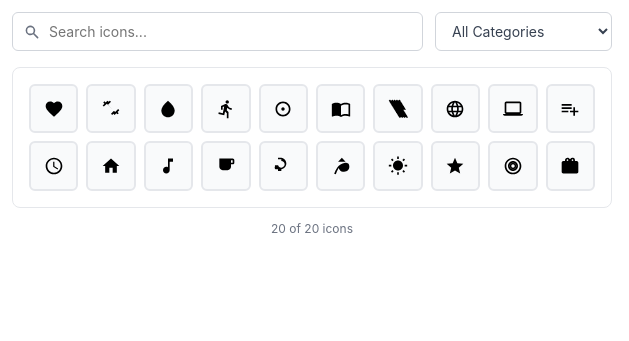
IconSelector › No Results State › should show no results message when search returns no matches
The width and height of the screenshot is (629, 341).
In the field with placeholder "Search icons...": [218, 32] box top-left (12, 12), bottom-right (423, 51), type "nonexistenticon"
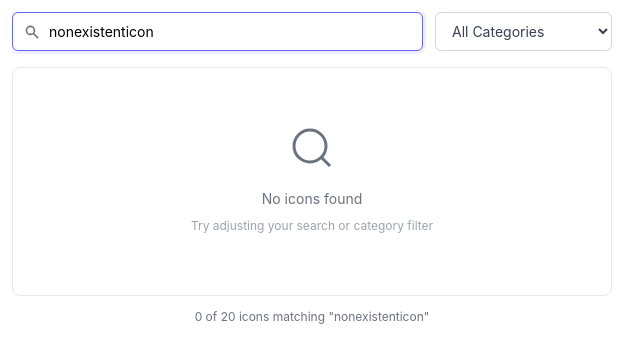
Expected: the text "No icons found" is shown, top-left (262, 188), bottom-right (362, 209)
Expected: the text "Try adjusting your search or category filter" is shown, top-left (191, 217), bottom-right (433, 235)
